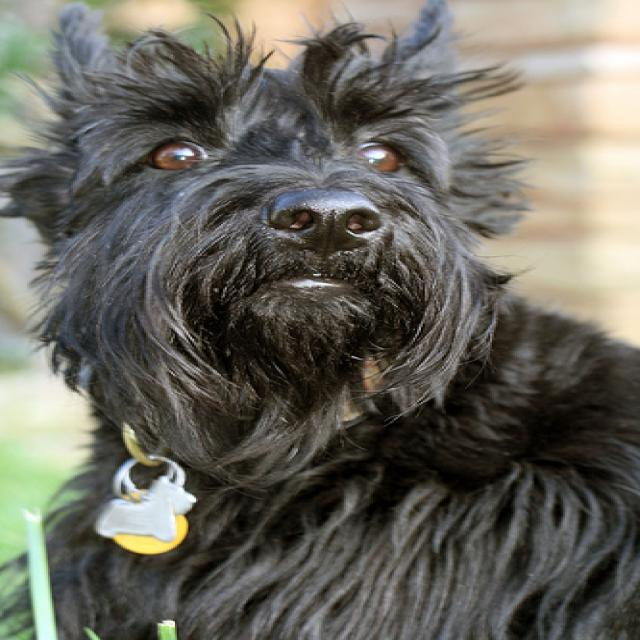dog-scottish_terrier: (8, 33, 636, 637)
